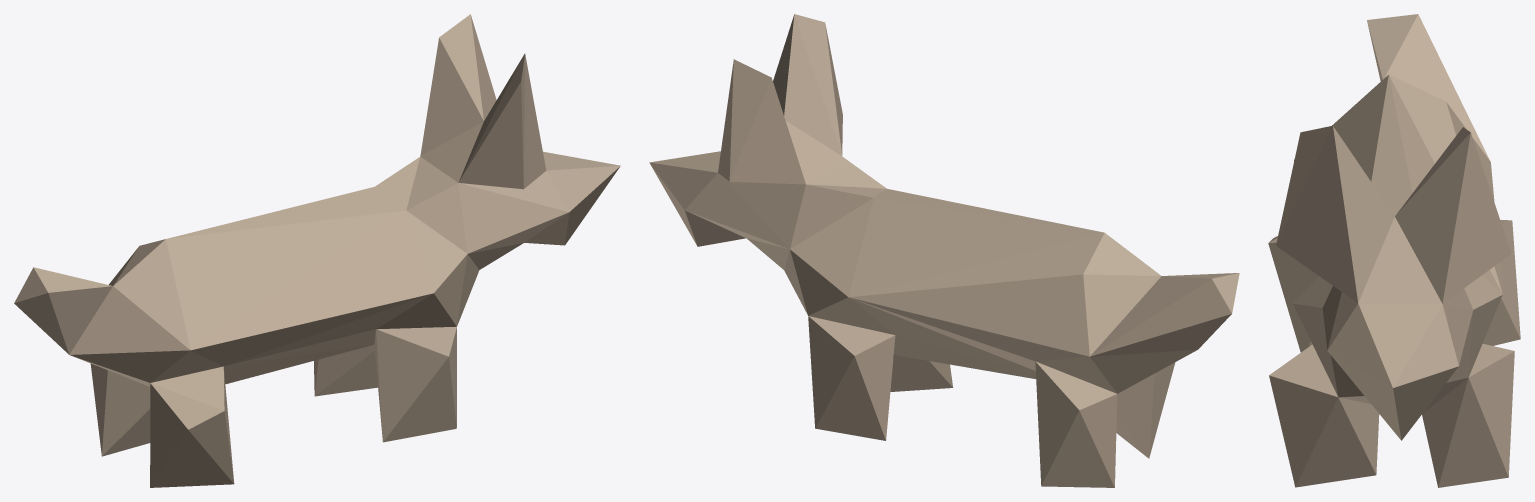
3 views of the same model, side by side, from view 1: azimuth 30°, elevation 25°; view 2: azimuth 150°, elevation 25°; view 3: azimuth 270°, elevation 25° (orthographic). The views are drawn at different scales.
Visible parts, largest first — view 1: part0; view 2: part0; view 3: part0.
Boxes of the visible parts, <box> form: part0: <box>14,14,620,487</box>; part0: <box>649,14,1239,487</box>; part0: <box>1268,14,1520,487</box>.
Bounding box in the file's own units: 4 × 2.26 × 1.23.
